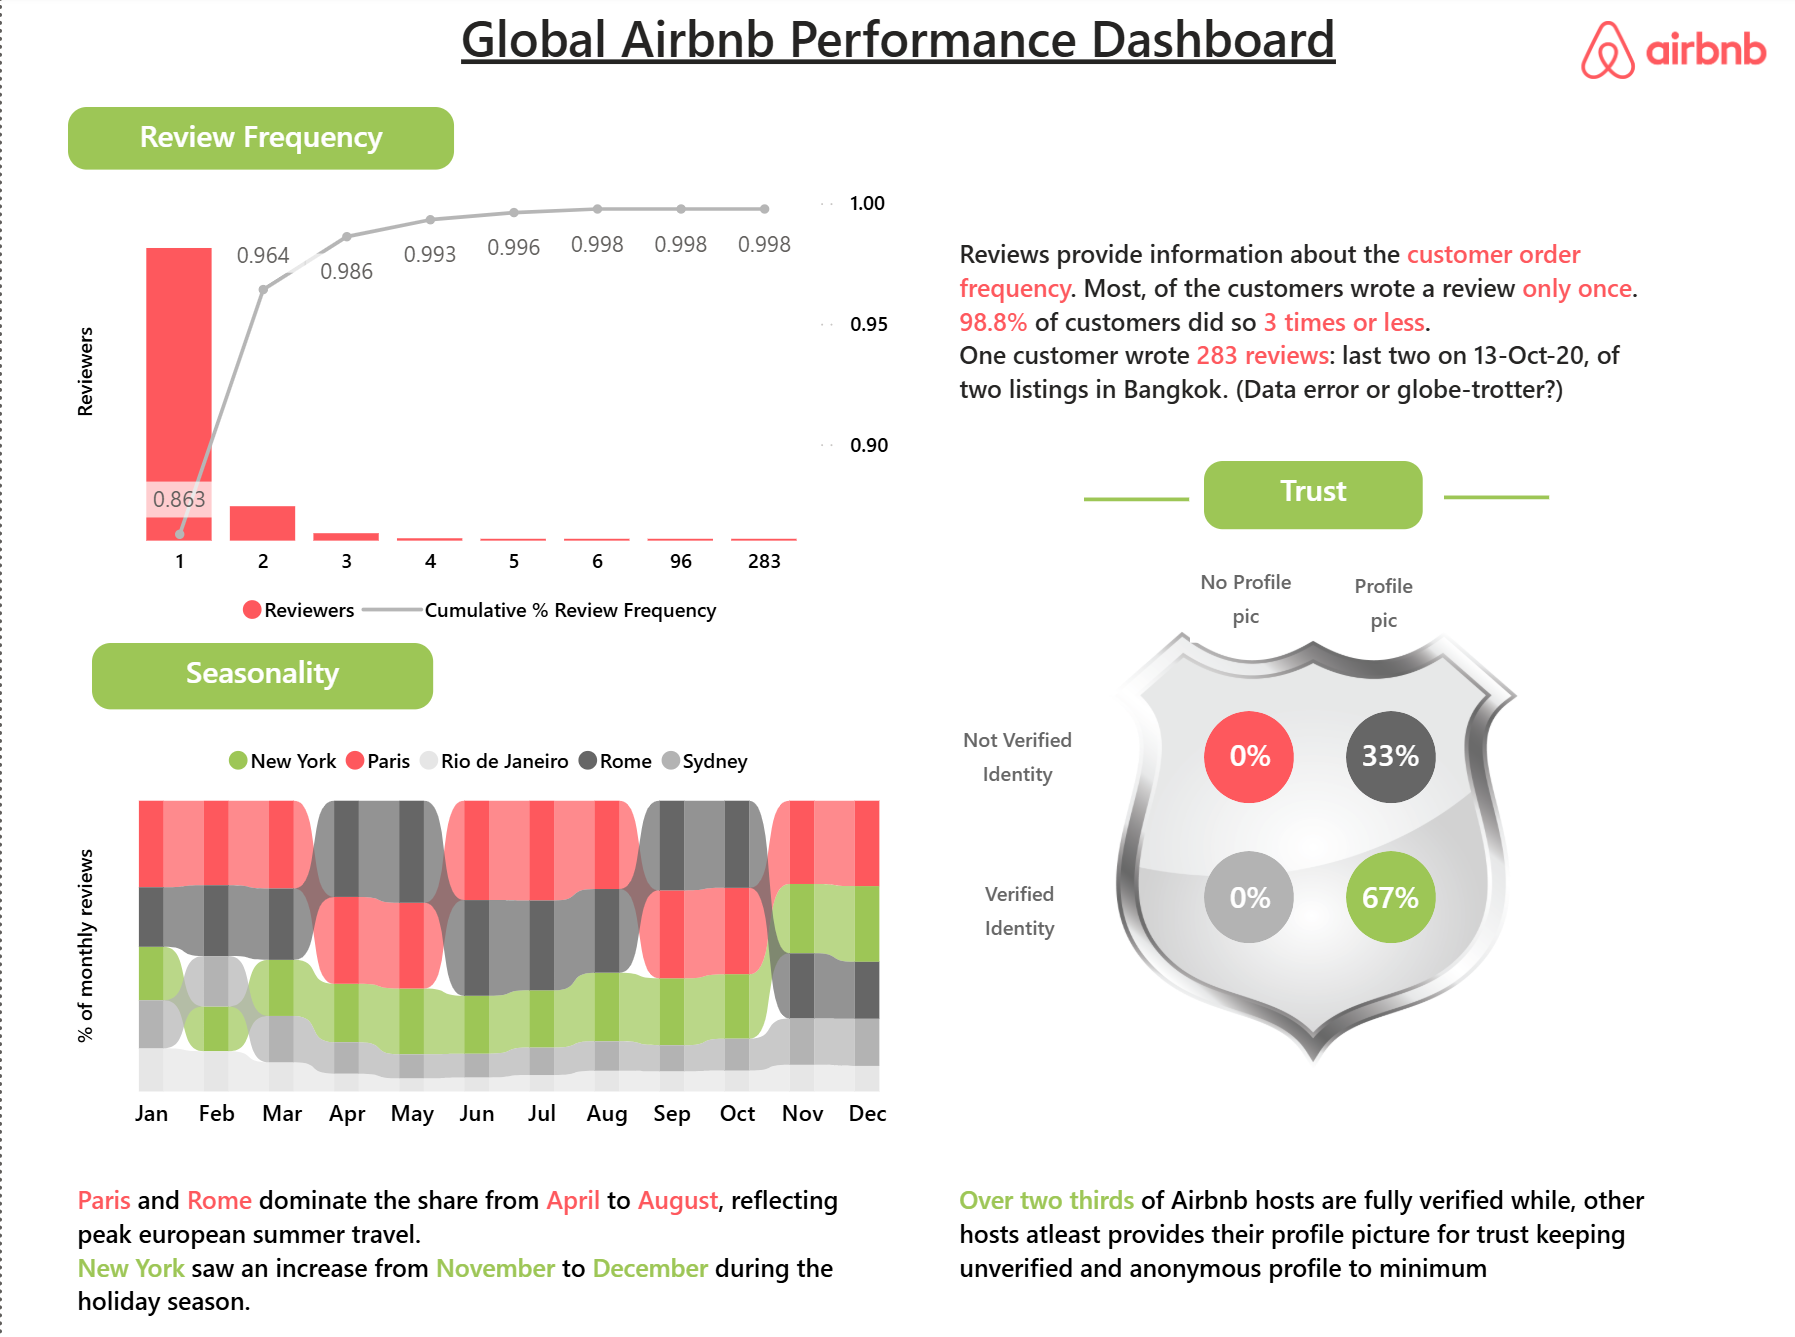

This screenshot's page, from the dashboard's own definition file:
{"tool":"powerbi","page":{"name":"Reviews","canvas":[960,720],"ordinal":2},"visuals":[{"type":"textbox","box":[217.6,0,524.8,60.9],"z":0},{"type":"image","box":[839.4,14.9,109.1,31],"z":1000},{"type":"textbox","box":[35.6,60.9,206.7,33.3],"z":2000},{"type":"textbox","box":[643.1,250.3,117.1,36.7],"z":3000},{"type":"shape","box":[578.8,259.5,56.3,21.8],"z":4000},{"type":"shape","box":[771.7,258.4,56.3,21.8],"z":5000},{"type":"textbox","box":[507.6,631.6,388.1,88.4],"z":6000},{"type":"lineStackedColumnComboChart","fields":{"Category":["Reviews.Reviews per reviewer"],"Y":["Reviews.Reviewers"],"Y2":["Reviews.Cumulative % Review Frequency"]},"box":[35.6,98.8,444.4,249.2],"z":7000},{"type":"textbox","box":[507.6,125.2,387,106.8],"z":8000},{"type":"image","box":[488,280.2,427.2,357.1],"z":9000},{"type":"textbox","box":[635,299.7,59.7,48.2],"z":10000},{"type":"textbox","box":[717.7,302,42.5,45.9],"z":11000},{"type":"textbox","box":[507.6,383.5,72.3,49.4],"z":12000},{"type":"textbox","box":[514.4,466.2,59.7,52.8],"z":13000},{"type":"shape","box":[643.1,383.5,48.2,49.4],"z":14000},{"type":"shape","box":[718.9,383.5,48.2,49.4],"z":15000},{"type":"shape","box":[718.9,459.3,48.2,49.4],"z":16000},{"type":"shape","box":[643.1,459.3,48.2,49.4],"z":17000},{"type":"card","fields":{"Values":["Listings.NotVerified_Profile % Hosts"]},"box":[722.3,391.6,41.3,35.6],"z":18000},{"type":"card","fields":{"Values":["Listings.Verified_Profile % Hosts"]},"box":[722.3,467.4,41.3,35.6],"z":19000},{"type":"card","fields":{"Values":["Listings.NotVerified_NoProfile % Hosts"]},"box":[647.7,391.6,41.3,35.6],"z":20000},{"type":"card","fields":{"Values":["Listings.Verified_NoProfile % Hosts"]},"box":[647.7,467.4,41.3,35.6],"z":21000},{"type":"textbox","box":[48.2,347.9,182.6,35.6],"z":22000},{"type":"ribbonChart","fields":{"Y":["Reviews.% of monthly reviews"],"Series":["Listings.city"],"Category":["Reviews.Review Month"]},"box":[35.6,391.6,453.6,226.2],"z":23000},{"type":"textbox","box":[35.3,631.2,445.1,88.8],"z":24000}]}

Visuals, with their boxes in screenshot pixels (x1, y1, x2, y2), scaled from the page's 960x720 canvas onto the 1795x1337 screenshot:
textbox: pyautogui.locateOnScreen(407, 0, 1388, 113)
image: pyautogui.locateOnScreen(1570, 28, 1773, 85)
textbox: pyautogui.locateOnScreen(67, 113, 453, 175)
textbox: pyautogui.locateOnScreen(1202, 465, 1421, 533)
shape: pyautogui.locateOnScreen(1082, 482, 1188, 522)
shape: pyautogui.locateOnScreen(1443, 480, 1548, 520)
textbox: pyautogui.locateOnScreen(949, 1173, 1675, 1336)
lineStackedColumnComboChart - Reviews.Reviews per reviewer x Reviews.Reviewers: pyautogui.locateOnScreen(67, 183, 898, 646)
textbox: pyautogui.locateOnScreen(949, 232, 1673, 431)
image: pyautogui.locateOnScreen(912, 520, 1711, 1183)
textbox: pyautogui.locateOnScreen(1187, 557, 1299, 646)
textbox: pyautogui.locateOnScreen(1342, 561, 1421, 646)
textbox: pyautogui.locateOnScreen(949, 712, 1084, 804)
textbox: pyautogui.locateOnScreen(962, 866, 1073, 964)
shape: pyautogui.locateOnScreen(1202, 712, 1293, 804)
shape: pyautogui.locateOnScreen(1344, 712, 1434, 804)
shape: pyautogui.locateOnScreen(1344, 853, 1434, 945)
shape: pyautogui.locateOnScreen(1202, 853, 1293, 945)
card - Listings.NotVerified_Profile % Hosts: pyautogui.locateOnScreen(1351, 727, 1428, 793)
card - Listings.Verified_Profile % Hosts: pyautogui.locateOnScreen(1351, 868, 1428, 934)
card - Listings.NotVerified_NoProfile % Hosts: pyautogui.locateOnScreen(1211, 727, 1288, 793)
card - Listings.Verified_NoProfile % Hosts: pyautogui.locateOnScreen(1211, 868, 1288, 934)
textbox: pyautogui.locateOnScreen(90, 646, 432, 712)
ribbonChart - Reviews.% of monthly reviews x Listings.city: pyautogui.locateOnScreen(67, 727, 915, 1147)
textbox: pyautogui.locateOnScreen(66, 1172, 898, 1336)
